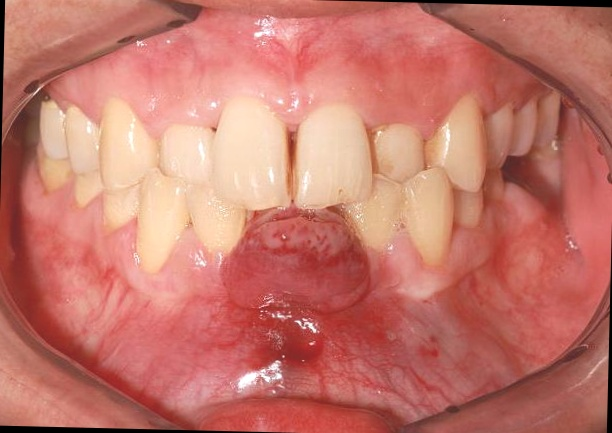Gingivitis: (229, 204, 363, 316), (262, 324, 331, 370)
